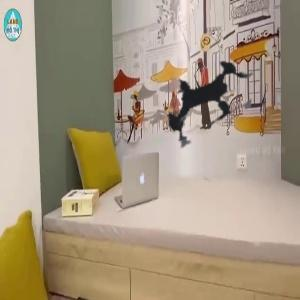drone: (130, 18, 288, 176)
